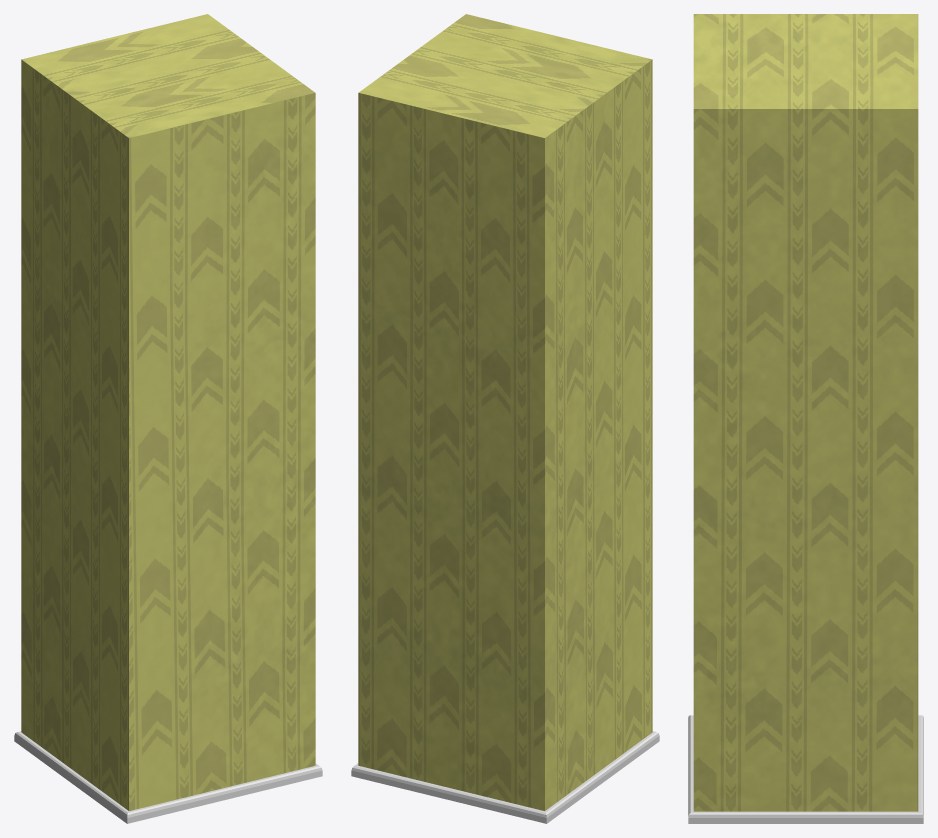
File: Wall_Column.fbx
The picture shows the model from 3 angles, left to right: view 1: azimuth 30°, elevation 25°; view 2: azimuth 150°, elevation 25°; view 3: azimuth 270°, elevation 25°; orthographic projection. The views are drawn at different scales.
Parts seen in each view (by area): view 1: Wall column, Cube.003, Cube.001; view 2: Wall column, Cube.002, Cube.001; view 3: Wall column, Cube, Cube.002, Cube.003.
Part boxes in pixels (bbox=[...]): Wall column: bbox=[21, 14, 315, 811]; Cube.003: bbox=[129, 766, 317, 822]; Cube.001: bbox=[17, 732, 128, 821]; Wall column: bbox=[358, 14, 652, 810]; Cube.002: bbox=[356, 766, 544, 822]; Cube.001: bbox=[545, 732, 656, 821]; Wall column: bbox=[693, 14, 918, 811]; Cube: bbox=[693, 811, 918, 823]; Cube.002: bbox=[918, 716, 923, 814]; Cube.003: bbox=[688, 716, 693, 814].
Size of the model in its own units: 210 by 700 by 210.
1 material, 1 textured.
